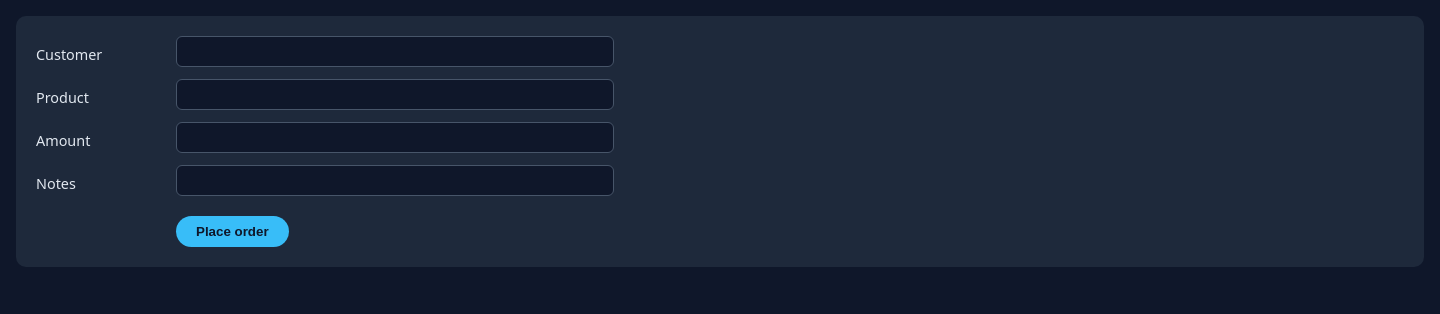
Test: PlaceOrderForm › shows the message the api sends back when placing fails
In the field labelled "Customer": (395, 52) [176,36,614,67], type "Alice"
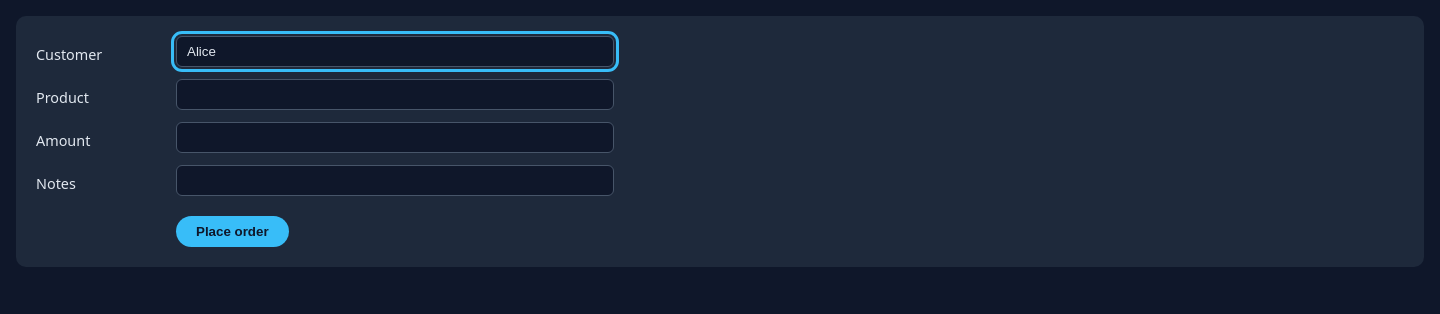
In the field labelled "Product": (395, 94) [176,79,614,110], type "Headphones"
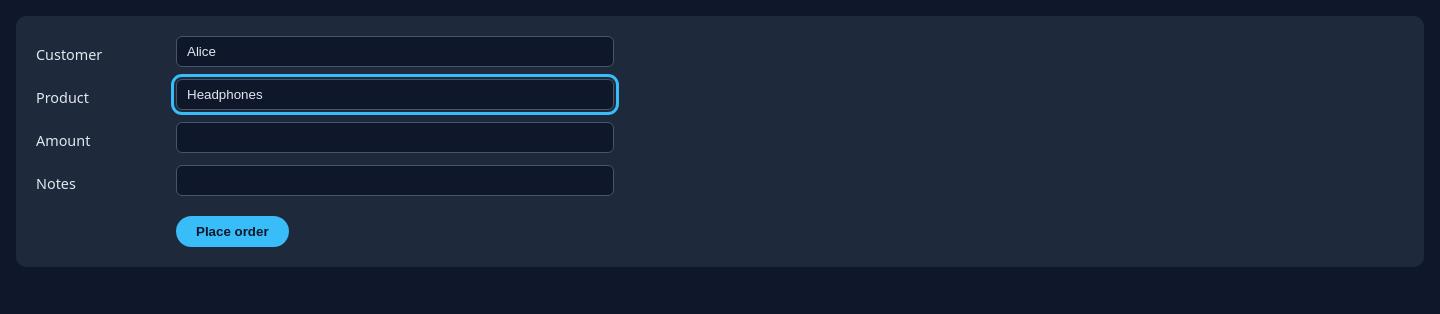
In the number field labelled "Amount": (395, 138) [176,122,614,153], type "1"
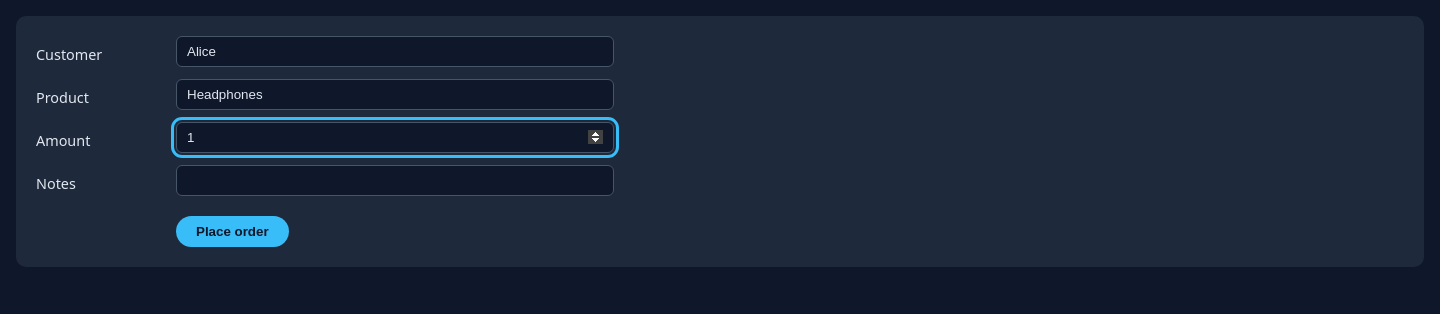
Click the button "Place order": (232, 232) [176,216,289,247]
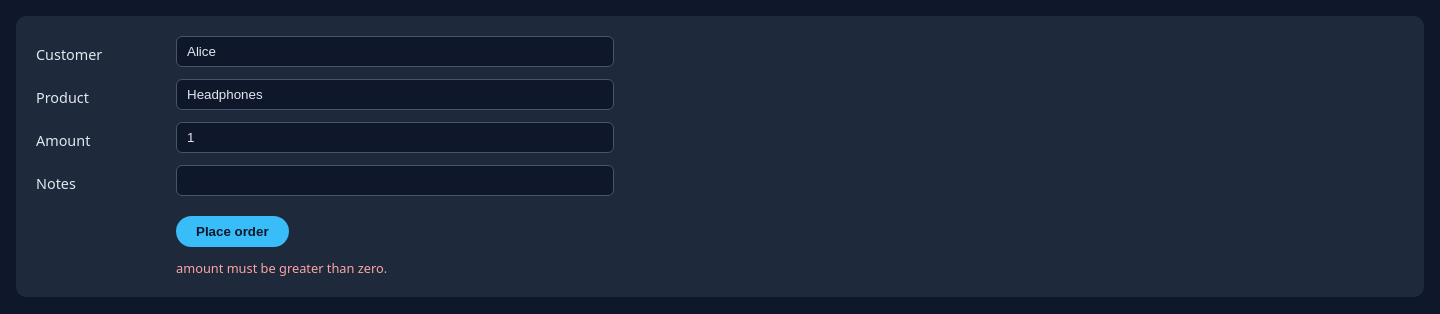
Now the message reads "amount must be greater than zero.", box [176,259,387,277]
